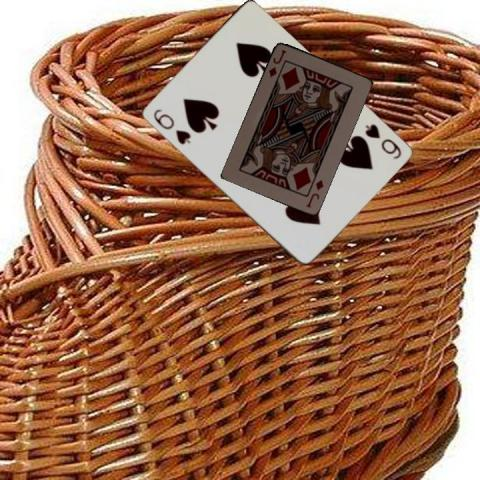6s: (150, 105, 192, 146), (361, 120, 403, 161)
Jd: (303, 176, 325, 208), (266, 47, 288, 78)
